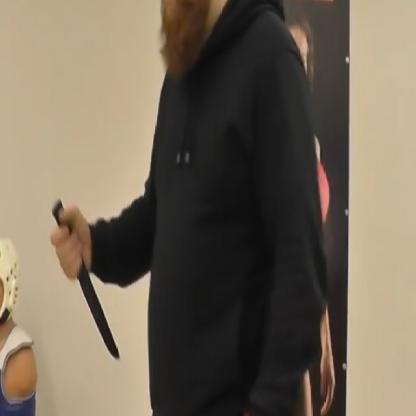knife: (48, 194, 124, 364)
